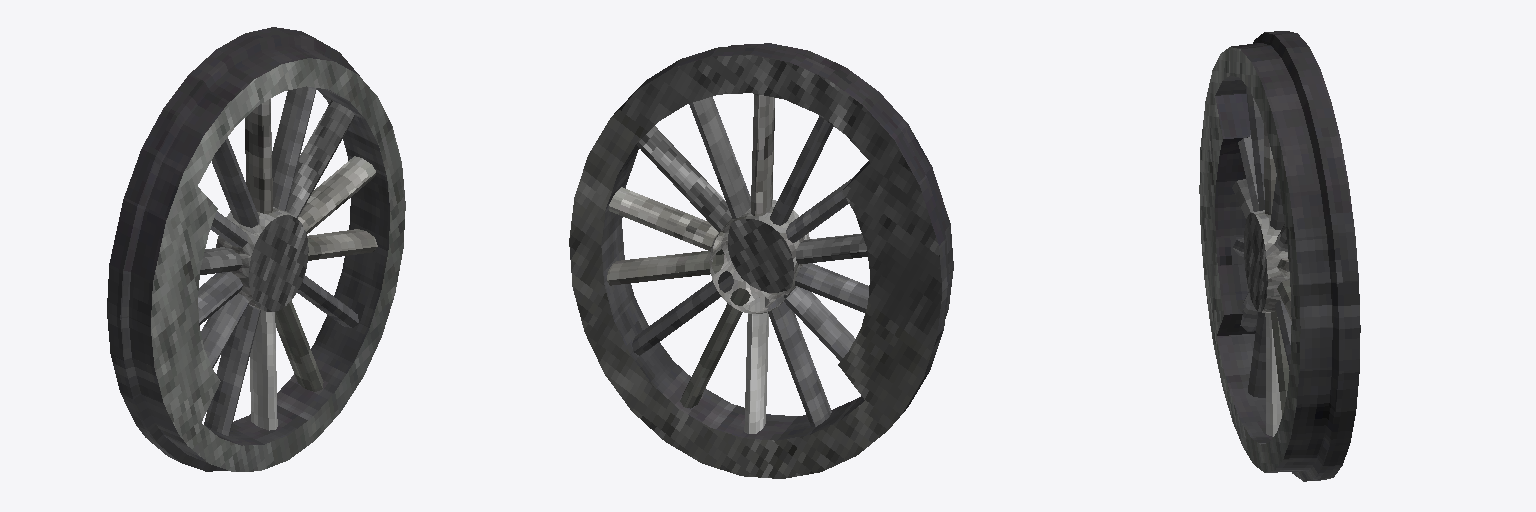
3 views of the same model, side by side, from view 1: azimuth 30°, elevation 25°; view 2: azimuth 150°, elevation 25°; view 3: azimuth 270°, elevation 25° (orthographic).
Parts seen in each view (by area): view 1: LlantaDer4; view 2: LlantaDer4; view 3: LlantaDer4.
Part boxes in pixels (left/top/right/bottom): LlantaDer4: left=107, top=27, right=405, bottom=471; LlantaDer4: left=569, top=43, right=953, bottom=478; LlantaDer4: left=1199, top=31, right=1360, bottom=481.
Bounding box in the file's own units: 0.3158 × 0.3937 × 0.1362.
Materials: 1 (1 with a texture image).